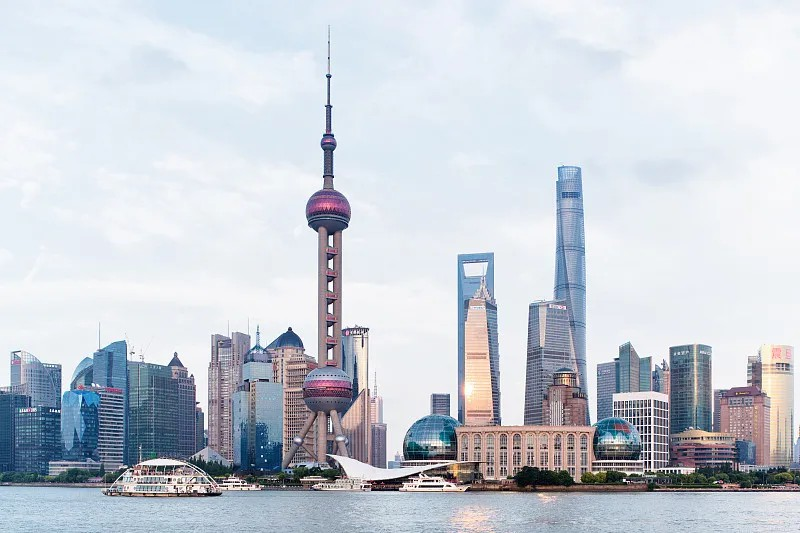Oriental: (283, 24, 353, 469)
